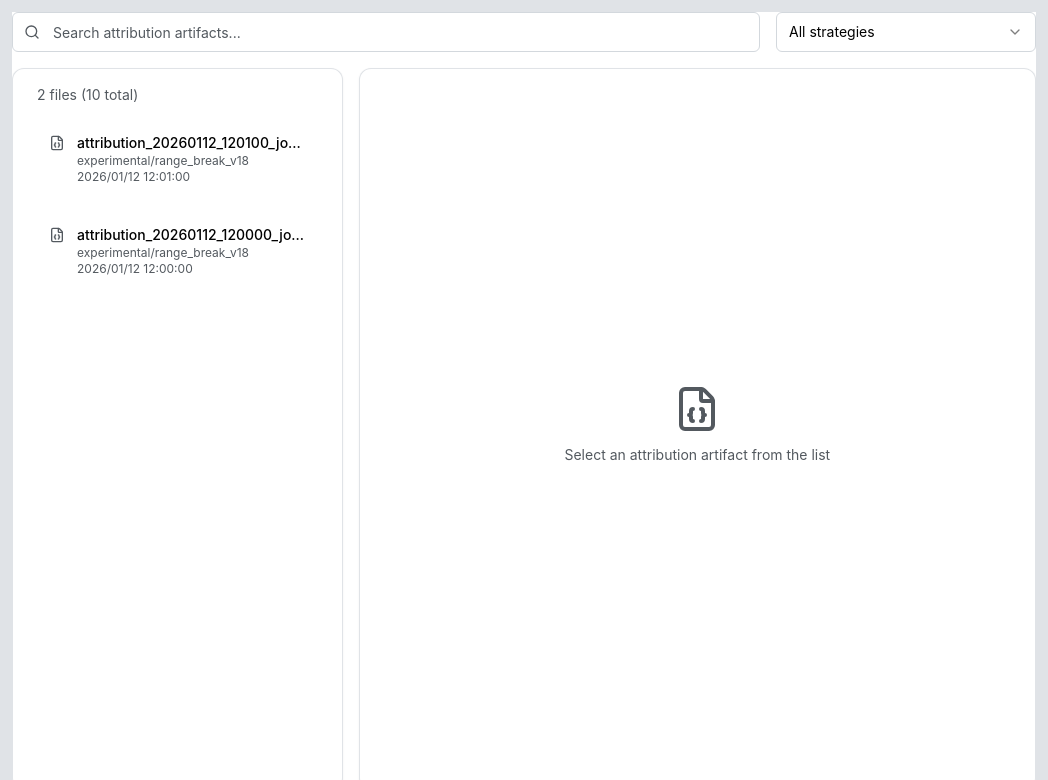
AttributionArtifactBrowser › filters files by search query and shows total count hint
Expected: the text "2 files (10 total)" is shown, [37,86,138,103]
Type "job-1" into the field with placeholder "Search attribution artifacts...". click: (386, 32)
box: [12,12,760,52]
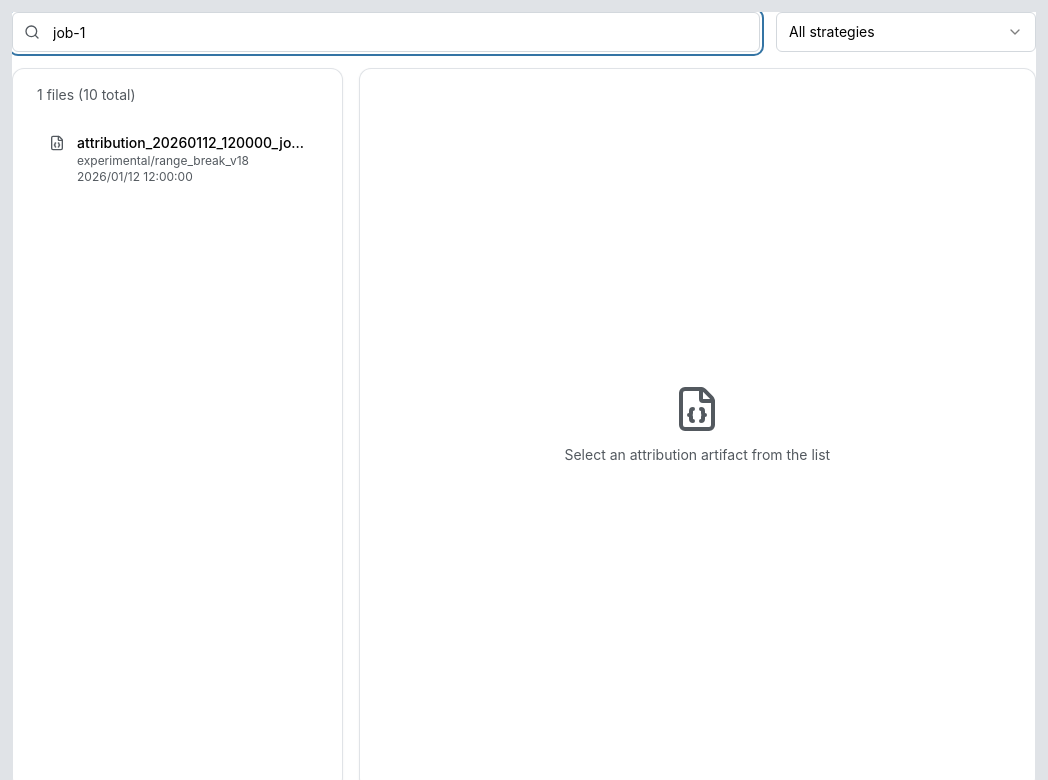
Expected: the text "attribution_20260112_120000_job-1.json" is shown, [77,133,306,153]
Expected: the button "attribution_20260112_120100_job-2.json" is gone
